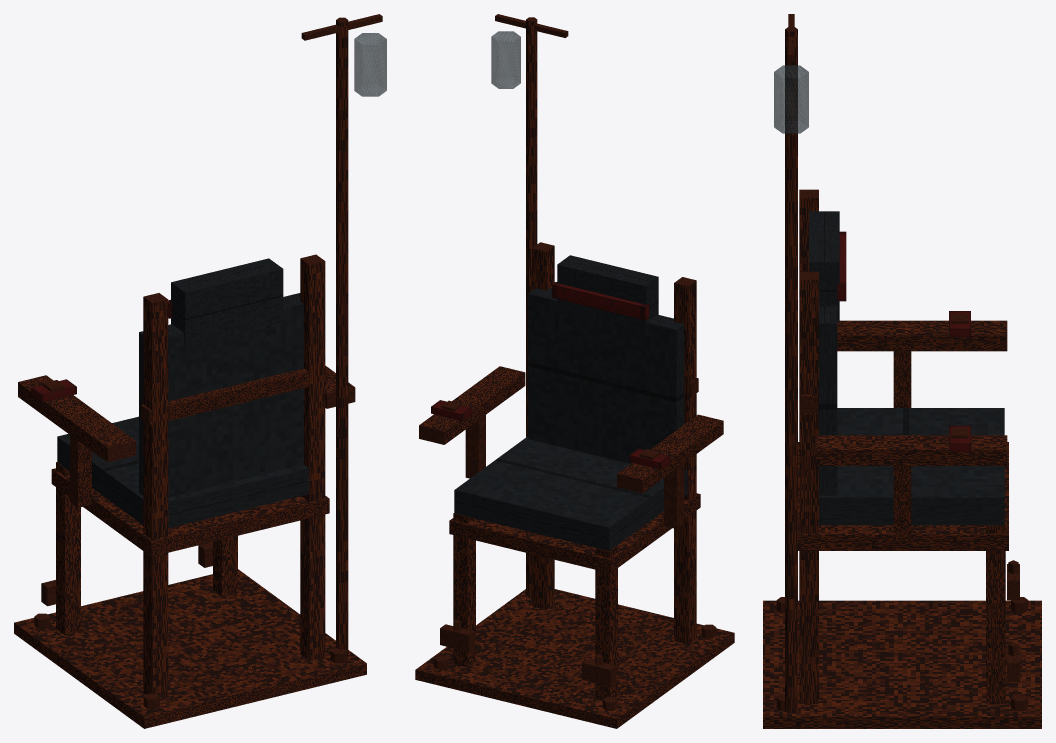
The model's file is restraint_chair_derelict_decay.glb.
3 renders of one model, left to right at view 1: azimuth 30°, elevation 25°; view 2: azimuth 150°, elevation 25°; view 3: azimuth 270°, elevation 25°, orthographic. The views are drawn at different scales.
Visible parts, largest first — view 1: restraint_chair_derelict_decay; view 2: restraint_chair_derelict_decay; view 3: restraint_chair_derelict_decay.
Part boxes in pixels (x1,y1,x2,y2): restraint_chair_derelict_decay: [14, 14, 386, 728]; restraint_chair_derelict_decay: [415, 14, 734, 728]; restraint_chair_derelict_decay: [763, 14, 1041, 728].
Bounding box in the file's own units: 0.7566 × 1.75 × 0.6375.
5 materials, 5 textured.
